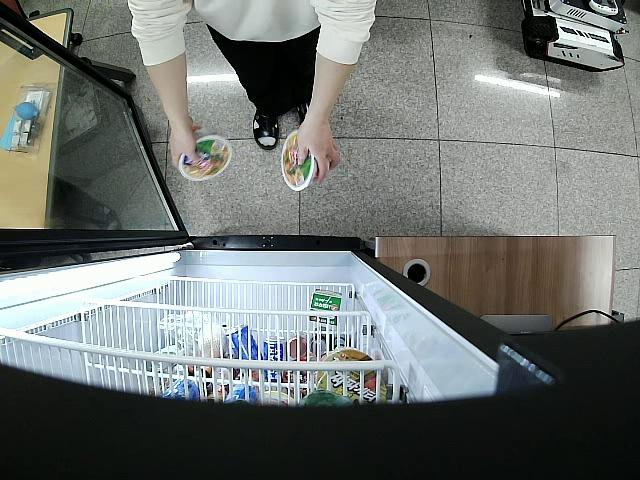00_hand: (296, 115, 341, 181), (168, 120, 201, 169)
09_yukGaeJang: (178, 135, 231, 182), (281, 130, 320, 192)
